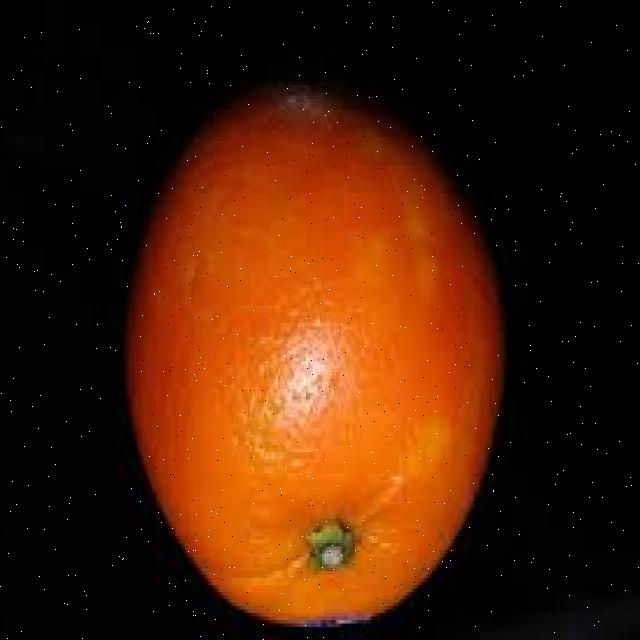Orange: (123, 82, 506, 627)
